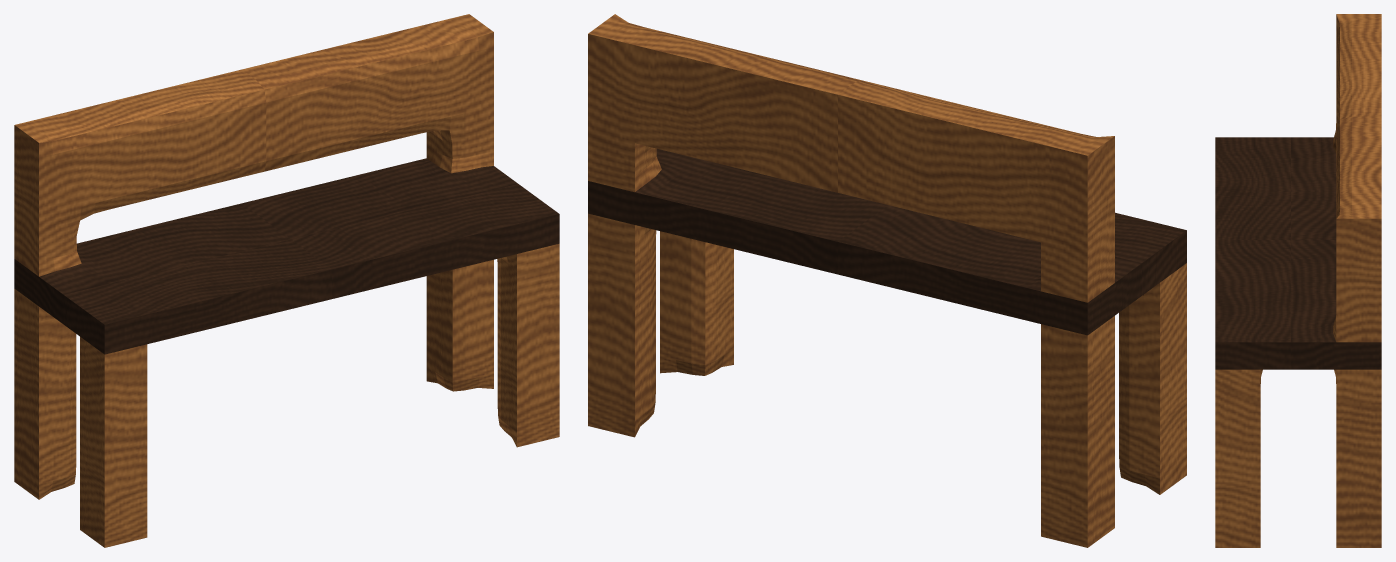
The model's file is furn_bench.glb.
3 renders of one model, left to right at view 1: azimuth 30°, elevation 25°; view 2: azimuth 150°, elevation 25°; view 3: azimuth 270°, elevation 25°, orthographic. The views are drawn at different scales.
Parts seen in each view (by area): view 1: town_furn_bench; view 2: town_furn_bench; view 3: town_furn_bench.
Part boxes in pixels (x1,y1,x2,y2): town_furn_bench: (14, 14, 559, 547); town_furn_bench: (588, 14, 1186, 547); town_furn_bench: (1215, 14, 1381, 547).
Bounding box in the file's own units: 1 × 0.75 × 0.3438.
1 material, 1 textured.
